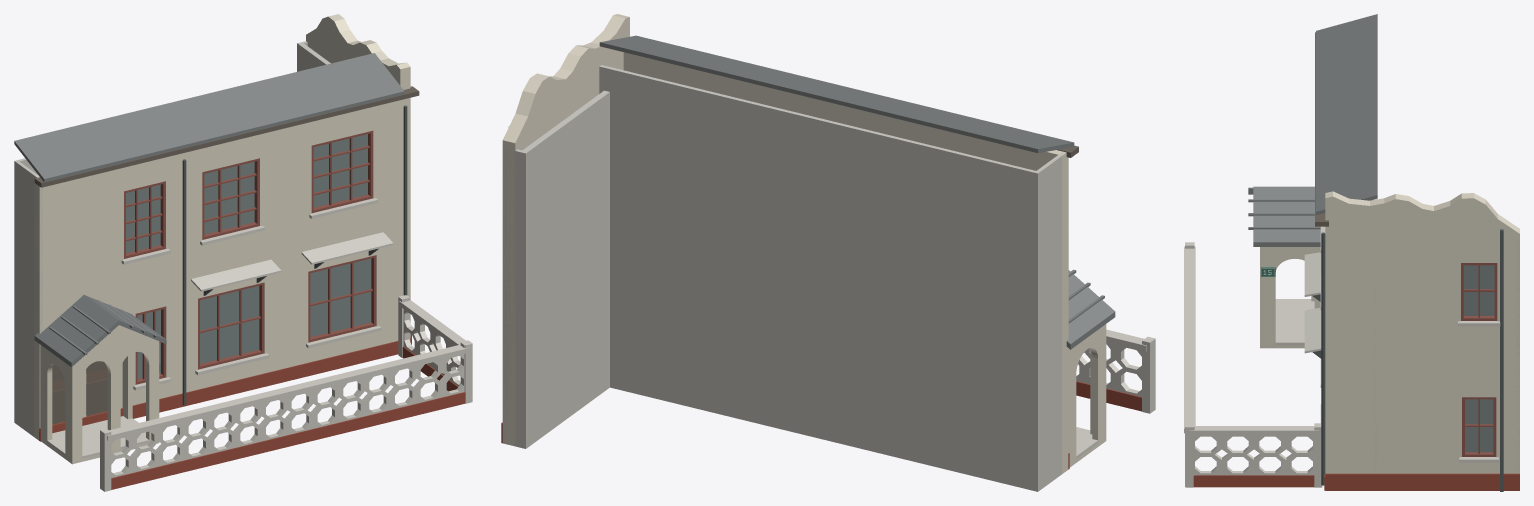
The model's file is xuhui-yongjia-village-no15-lod.glb.
3 views of the same model, side by side, from view 1: azimuth 30°, elevation 25°; view 2: azimuth 150°, elevation 25°; view 3: azimuth 270°, elevation 25° (orthographic). The views are drawn at different scales.
Visible parts, largest first — view 1: 永嘉新村15号拱廊与东端山墙; view 2: 永嘉新村15号拱廊与东端山墙; view 3: 永嘉新村15号拱廊与东端山墙.
Boxes of the visible parts, left/top/right/bottom form: 永嘉新村15号拱廊与东端山墙: left=14, top=14, right=472, bottom=491; 永嘉新村15号拱廊与东端山墙: left=501, top=14, right=1155, bottom=491; 永嘉新村15号拱廊与东端山墙: left=1184, top=14, right=1519, bottom=491.
Size of the model in its own units: 9.49 by 6.84 by 7.08.
